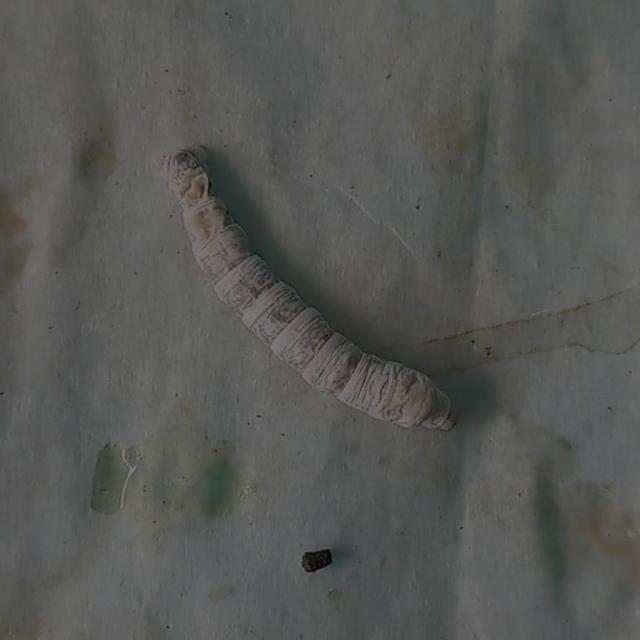Grasserie: (153, 137, 464, 437)
